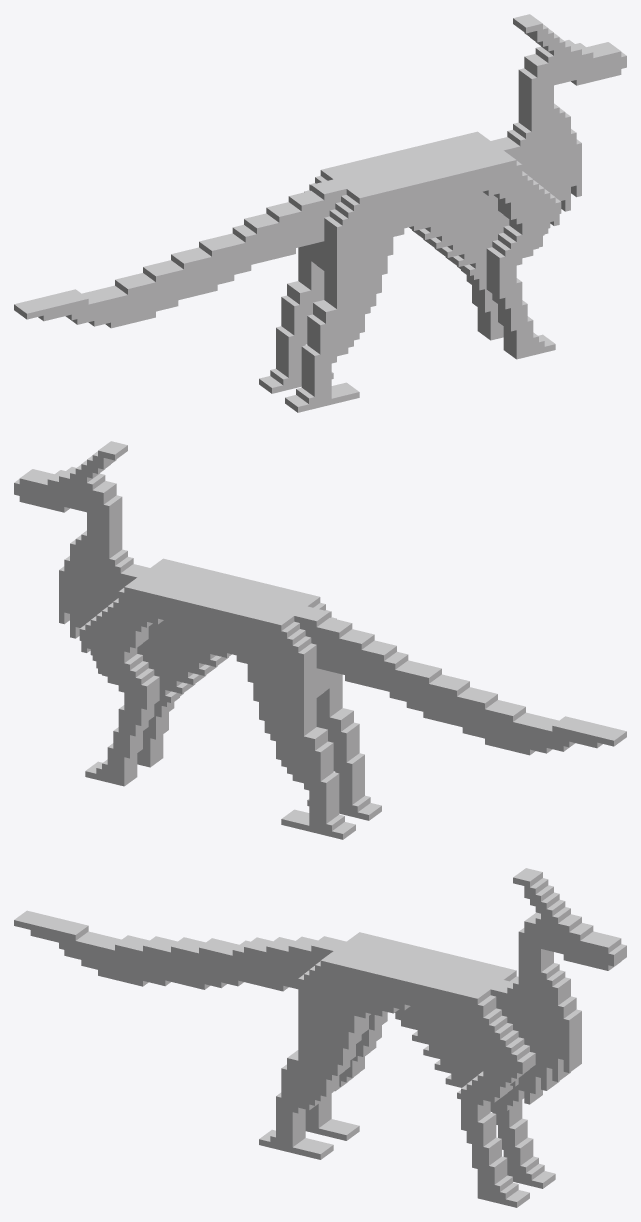
File: Normal_Immortal.gltf
3 renders of one model, top to bottom at view 1: azimuth 30°, elevation 25°; view 2: azimuth 150°, elevation 25°; view 3: azimuth 330°, elevation 25°, orthographic.
Parts seen in each view (by area): view 1: Normal_Immortal-Mesh; view 2: Normal_Immortal-Mesh; view 3: Normal_Immortal-Mesh.
Part boxes in pixels (<box>): Normal_Immortal-Mesh: <box>14,14,626,412</box>; Normal_Immortal-Mesh: <box>14,441,626,839</box>; Normal_Immortal-Mesh: <box>14,868,626,1207</box>.
Bounding box in the file's own units: 53.5 × 27 × 6.
1 material, 1 textured.
